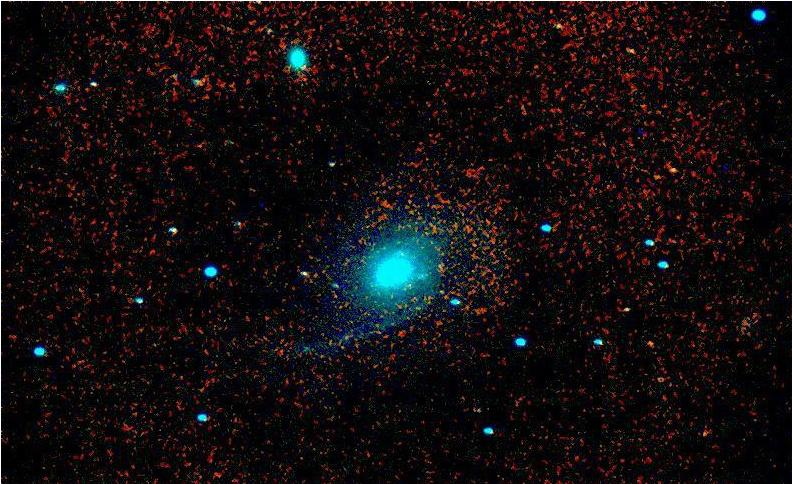star: (688, 419, 718, 449)
